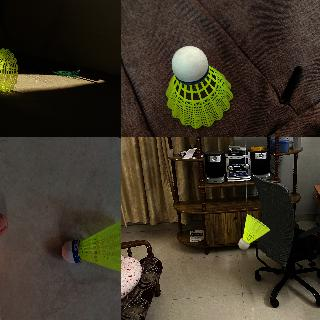shuttlecock: (166, 45, 232, 127), (60, 217, 120, 276), (238, 213, 270, 249), (0, 48, 19, 93)
